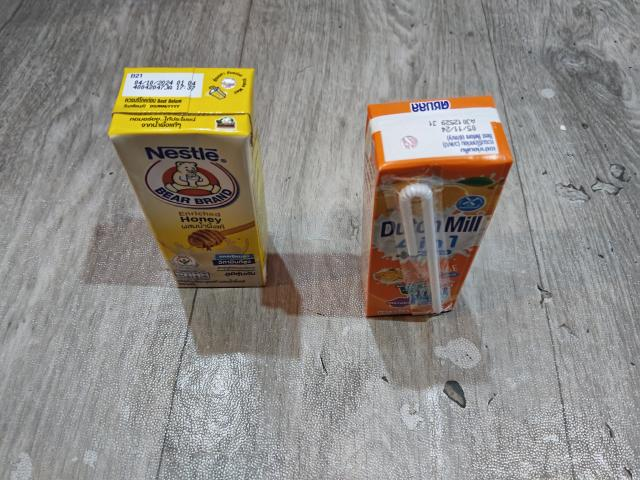drink_box: (102, 61, 277, 295), (363, 95, 505, 314)
